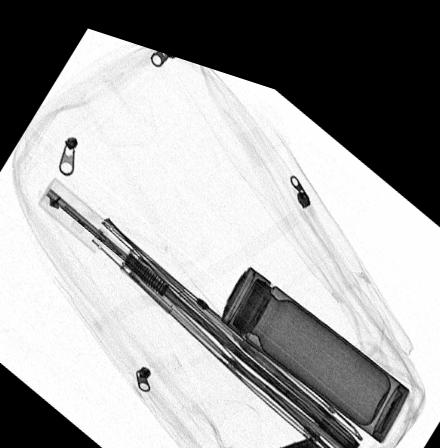Lighter: (267, 416, 330, 448)
